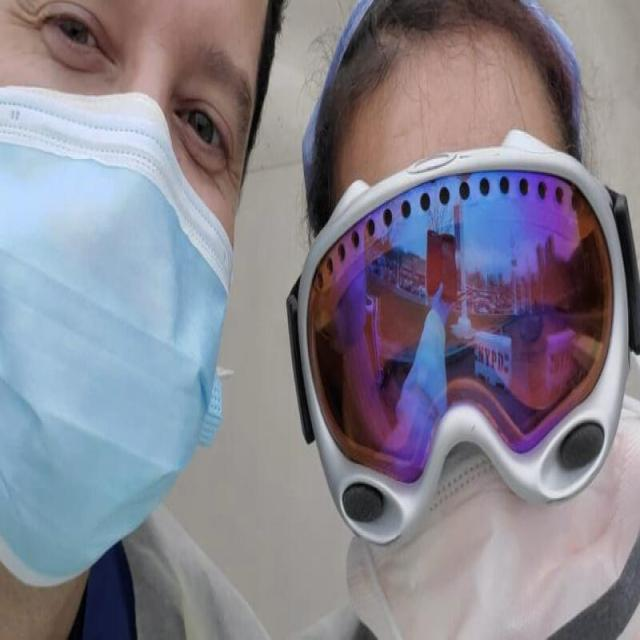Goggles: (285, 123, 640, 561)
Mask: (0, 87, 226, 573)
